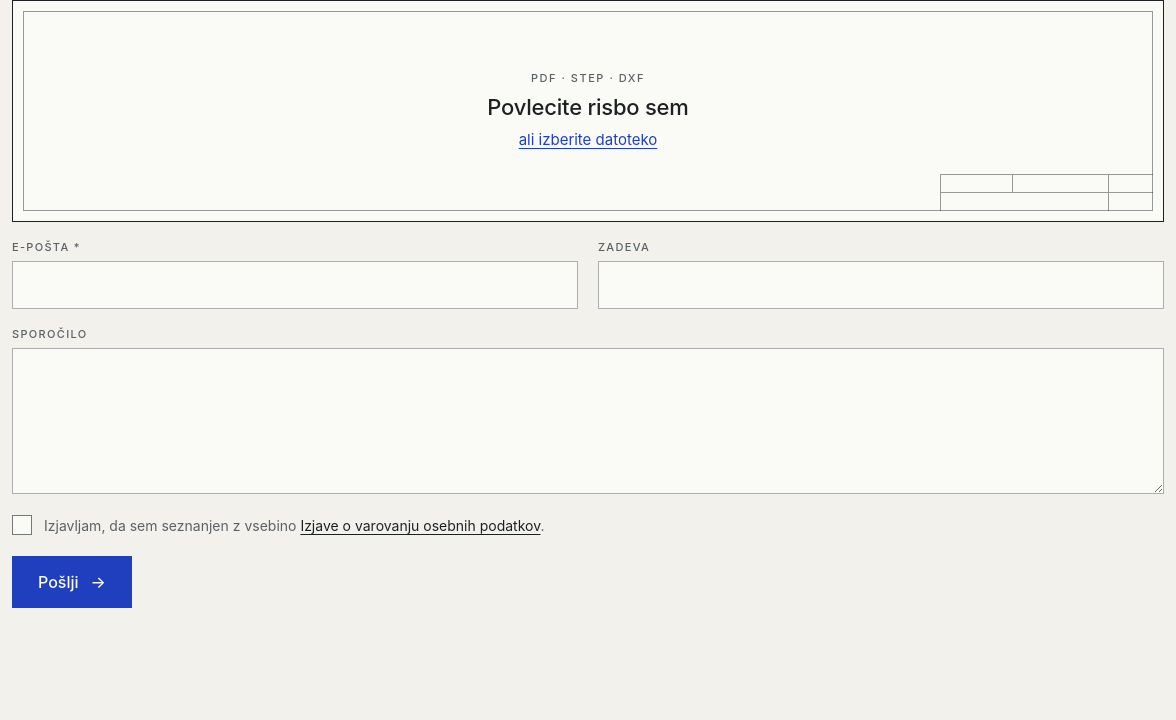
Test case: InquiryForm › thanks the visitor once the inquiry is away
This screenshot has width=1176, height=720.
Type "ana@primer.si" into the field labelled "E-pošta *".
click(295, 285); type("ana@primer.si")  # box [12,261,578,309]
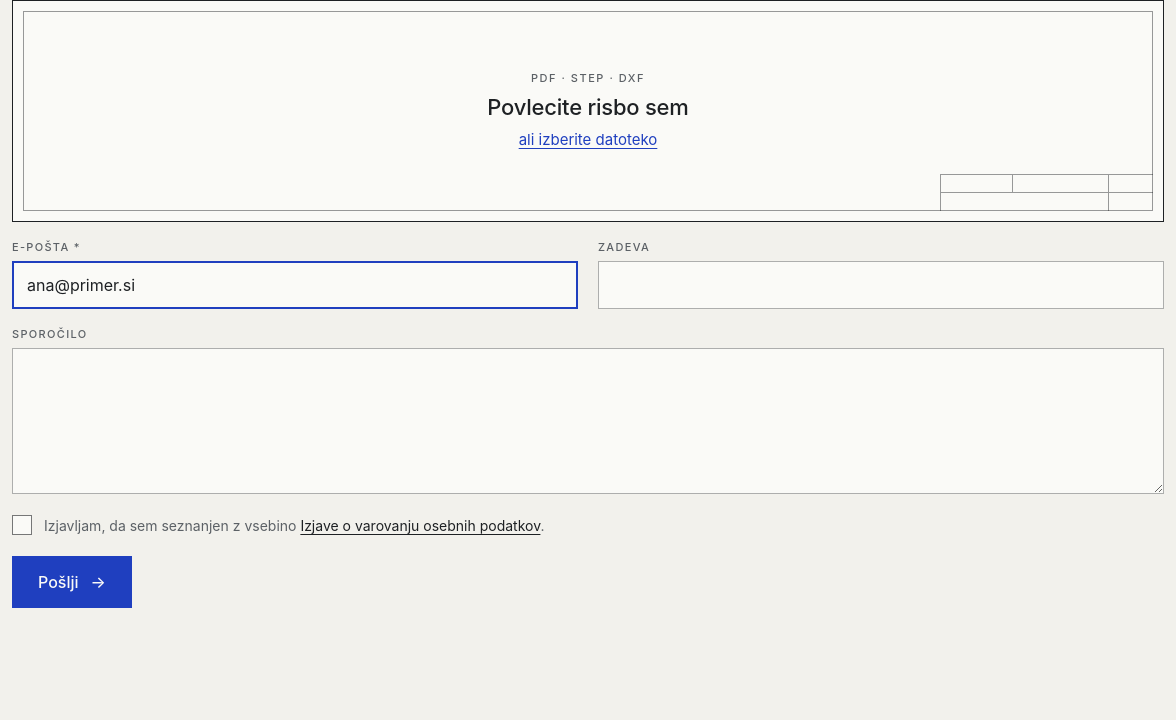
Click the checkbox.
click(22, 524)  # box [12,514,32,534]
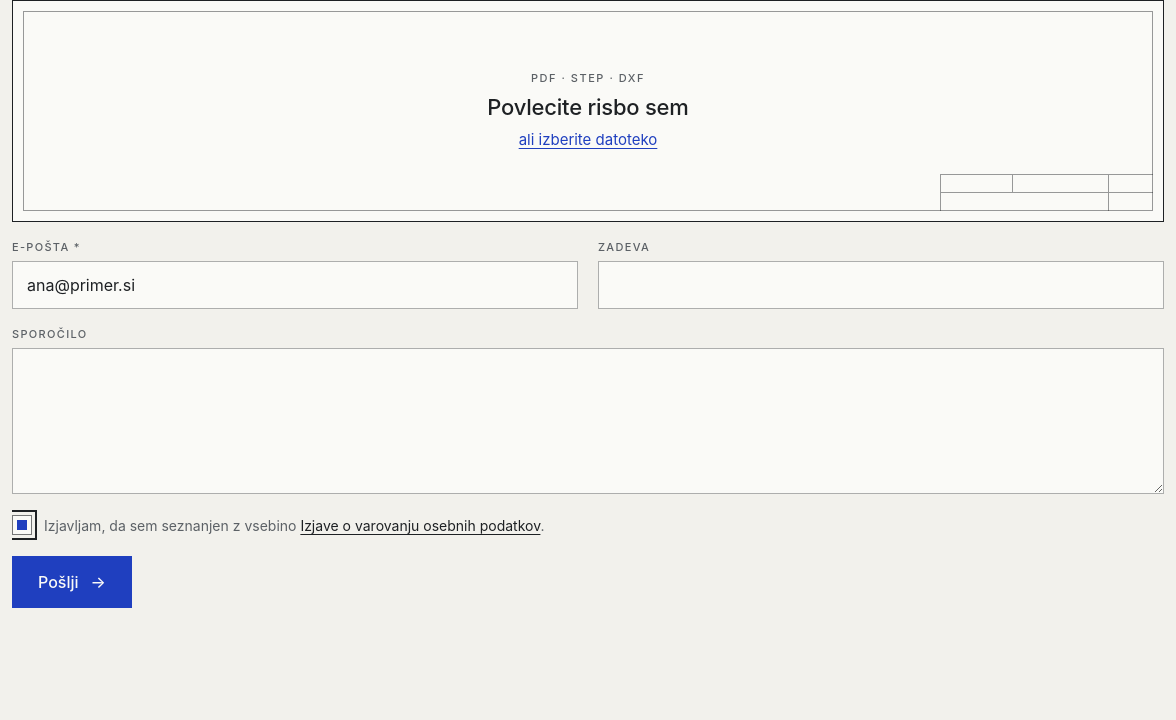
Click the button "Pošlji →".
click(72, 582)  # box [12,556,132,608]
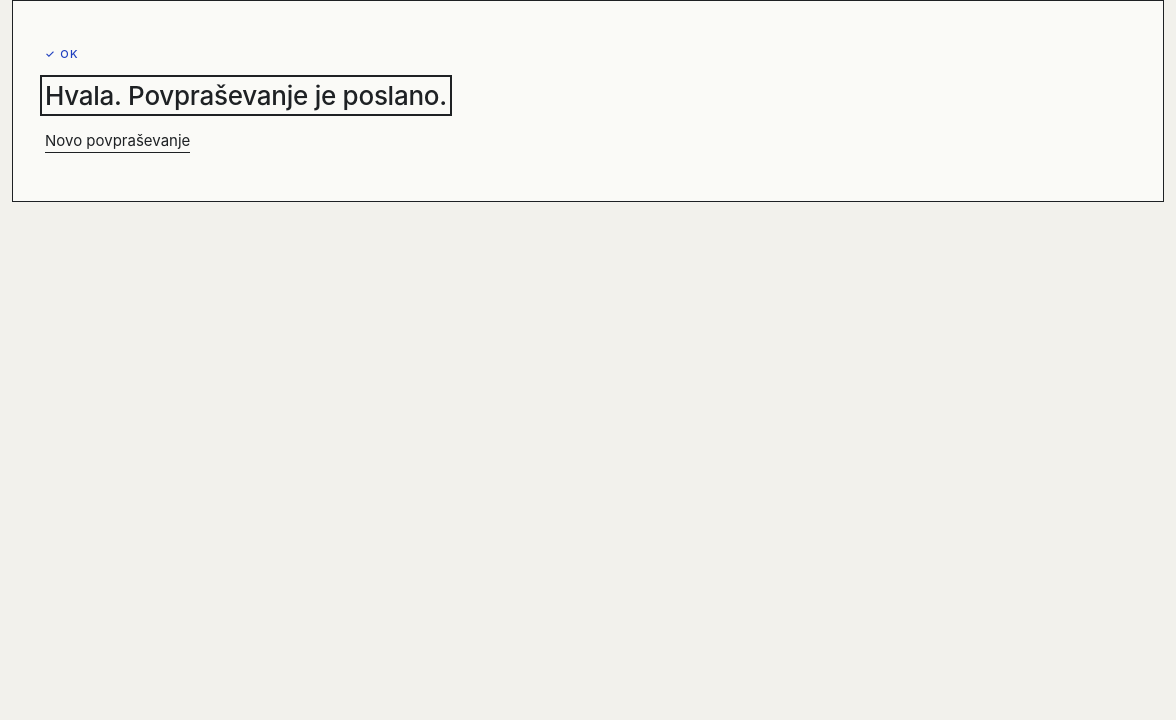
Check: the text "Hvala. Povpraševanje je poslano." is shown, box [45,80,447,111]
